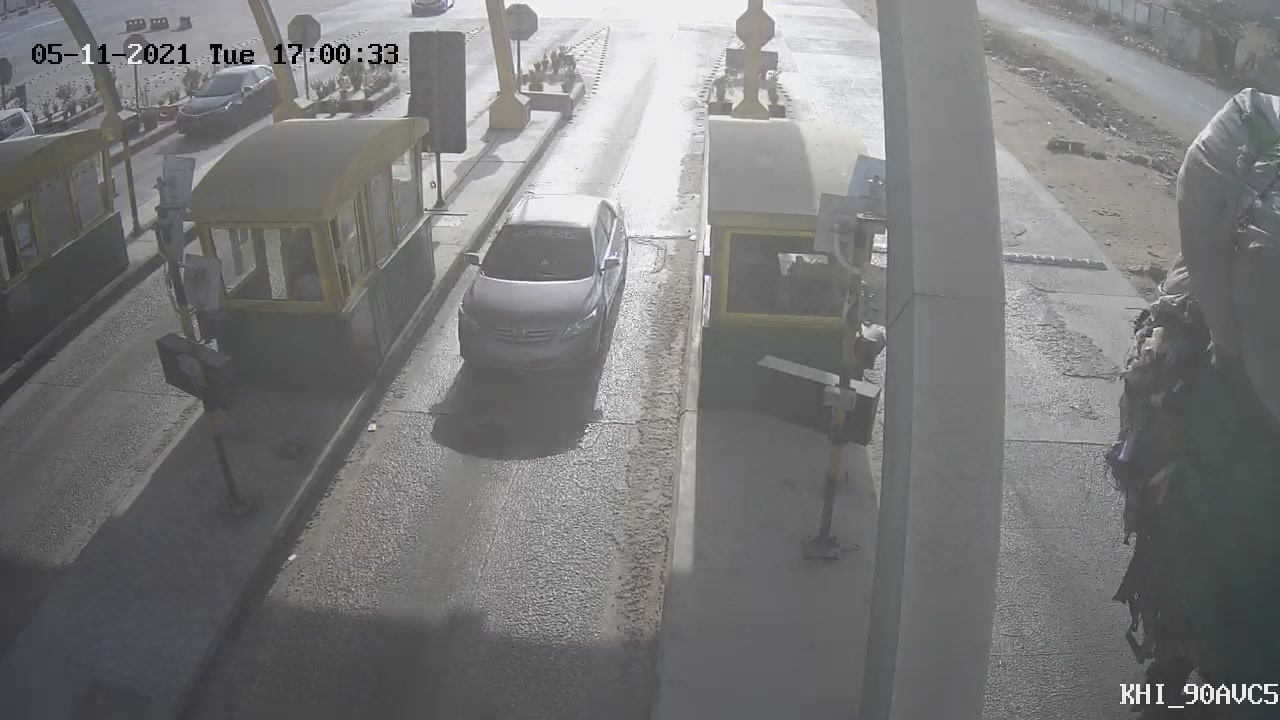F1: (435, 169, 647, 396)
